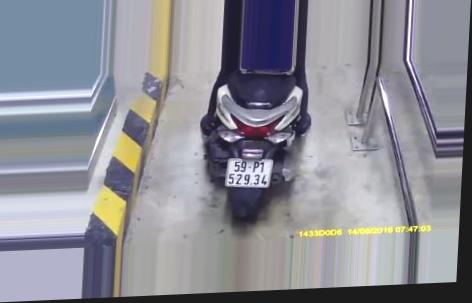License_Plate: (222, 153, 277, 194)
